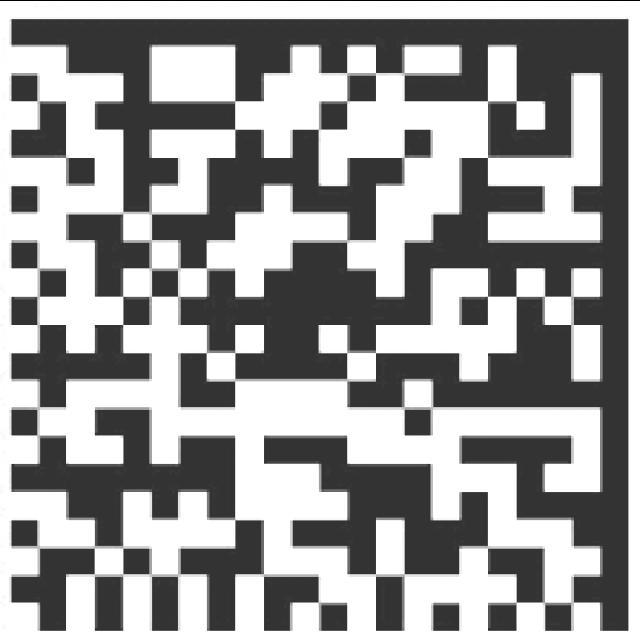Data-Matrix: (6, 9, 637, 635)
